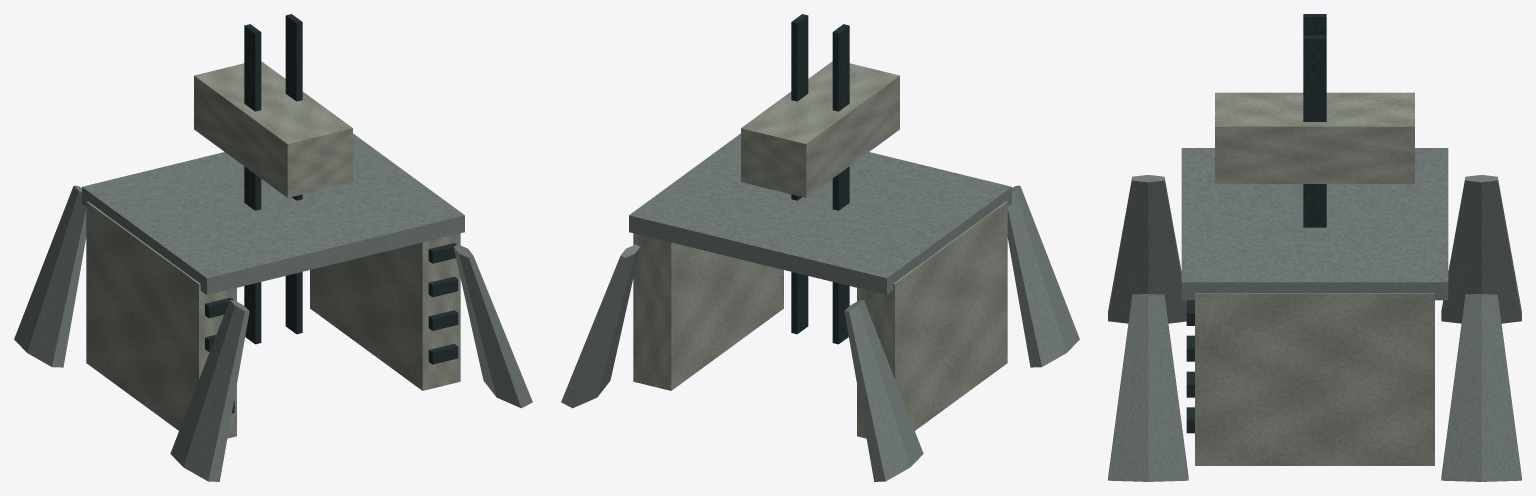
File: elevator_cathedral_01.fbx
3 renders of one model, left to right at view 1: azimuth 30°, elevation 25°; view 2: azimuth 150°, elevation 25°; view 3: azimuth 270°, elevation 25°, orthographic. The views are drawn at different scales.
Parts seen in each view (by area): view 1: elevator_cathedral_01_LOD0; view 2: elevator_cathedral_01_LOD0; view 3: elevator_cathedral_01_LOD0.
Boxes of the visible parts, bbox=[...] form: elevator_cathedral_01_LOD0: bbox=[14, 14, 532, 481]; elevator_cathedral_01_LOD0: bbox=[561, 14, 1079, 481]; elevator_cathedral_01_LOD0: bbox=[1108, 14, 1521, 481].
Size of what is drawn, in the model's own units: 1 by 1 by 1.
